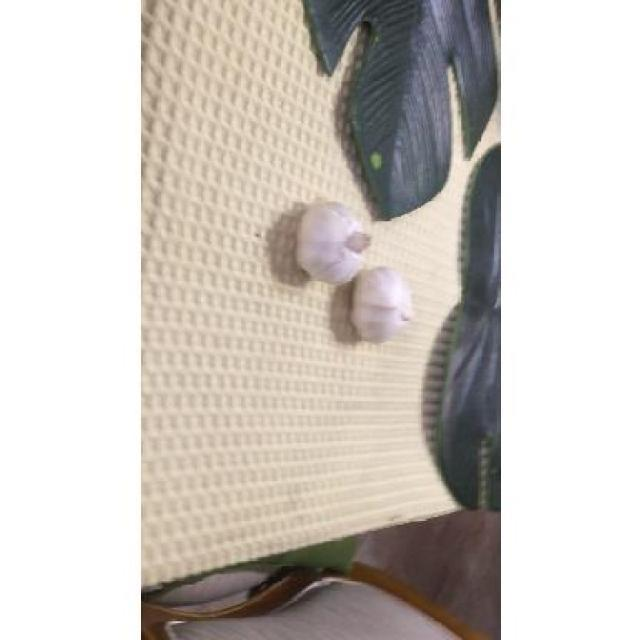garlic: (298, 204, 370, 283), (351, 266, 412, 342)
